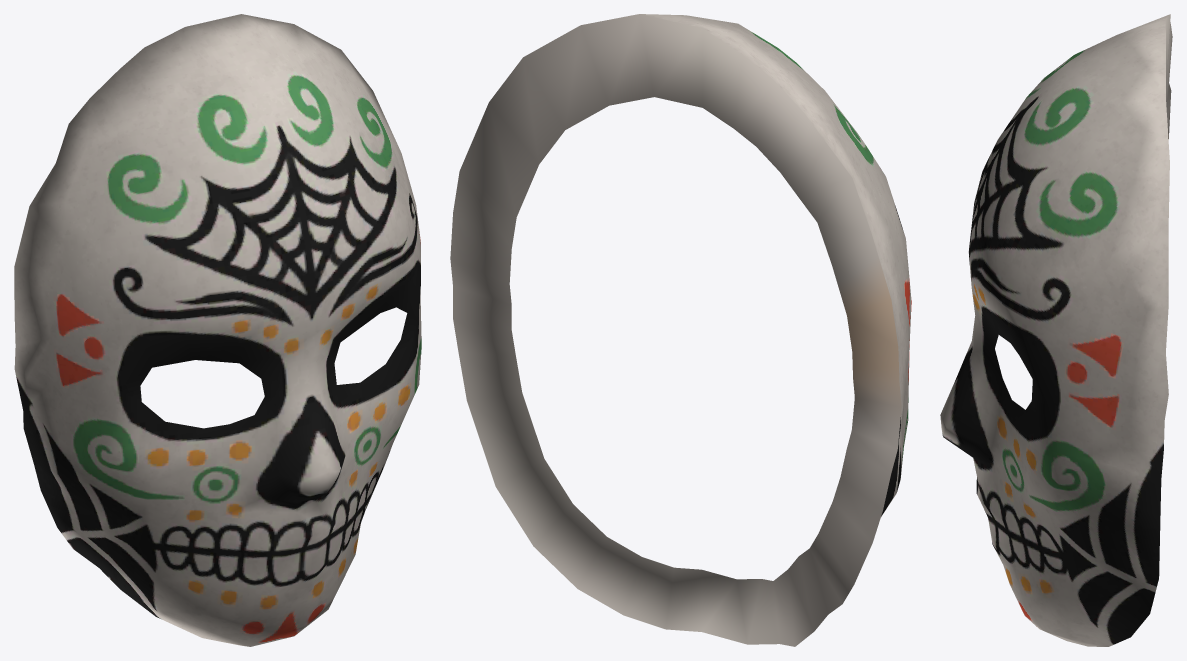
File: SpiderSkull.glb
3 views of the same model, side by side, from view 1: azimuth 30°, elevation 25°; view 2: azimuth 150°, elevation 25°; view 3: azimuth 270°, elevation 25° (orthographic). The views are drawn at different scales.
Parts seen in each view (by area): view 1: DDLM_SpiderSkull; view 2: DDLM_SpiderSkull; view 3: DDLM_SpiderSkull.
Part boxes in pixels (<box>): DDLM_SpiderSkull: <box>14,14,421,646</box>; DDLM_SpiderSkull: <box>450,14,911,646</box>; DDLM_SpiderSkull: <box>940,14,1172,646</box>.
Size of the model in its own units: 0.1755 by 0.2472 by 0.0872.
Materials: 1 (1 with a texture image).
